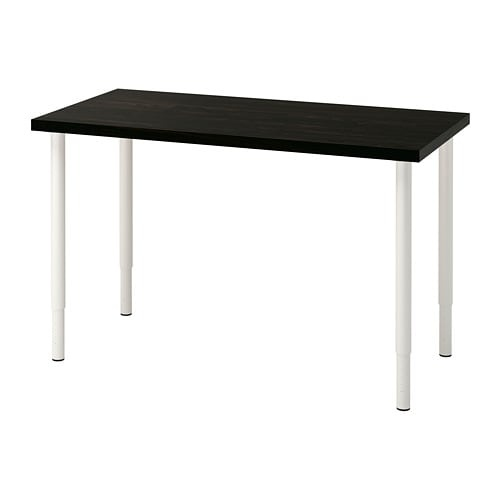obstacle: (31, 89, 469, 410)
